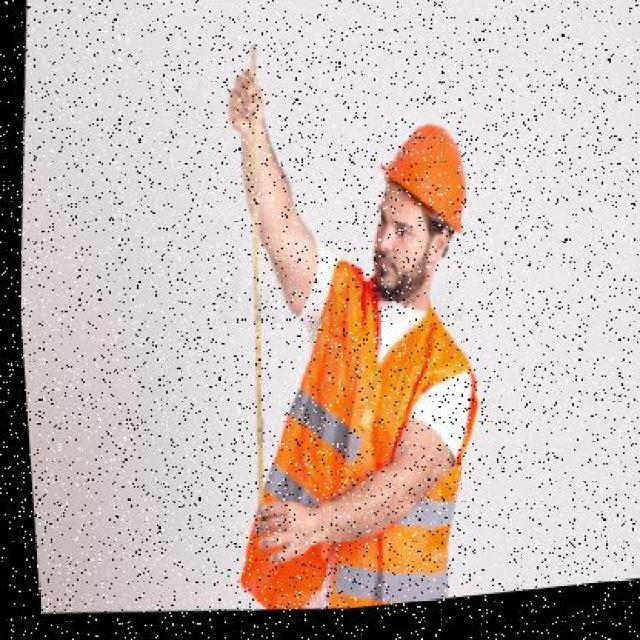helmet: (359, 119, 475, 280)
vest: (256, 257, 497, 619)
